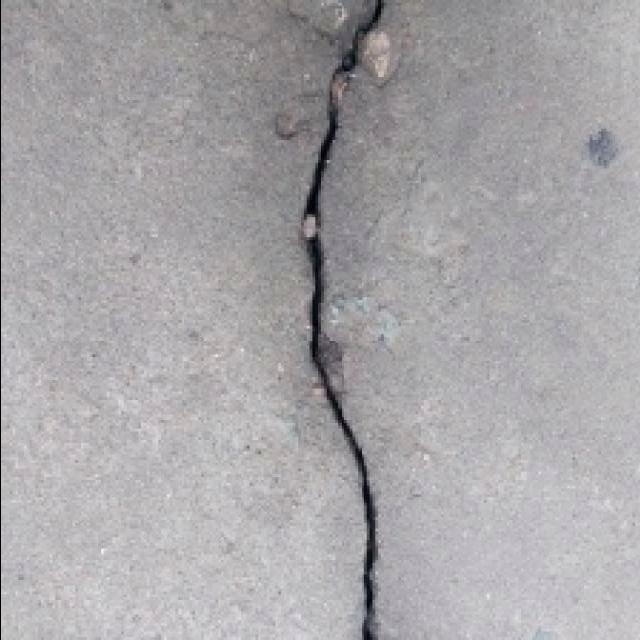SurfaceCrack: (262, 0, 430, 640)
